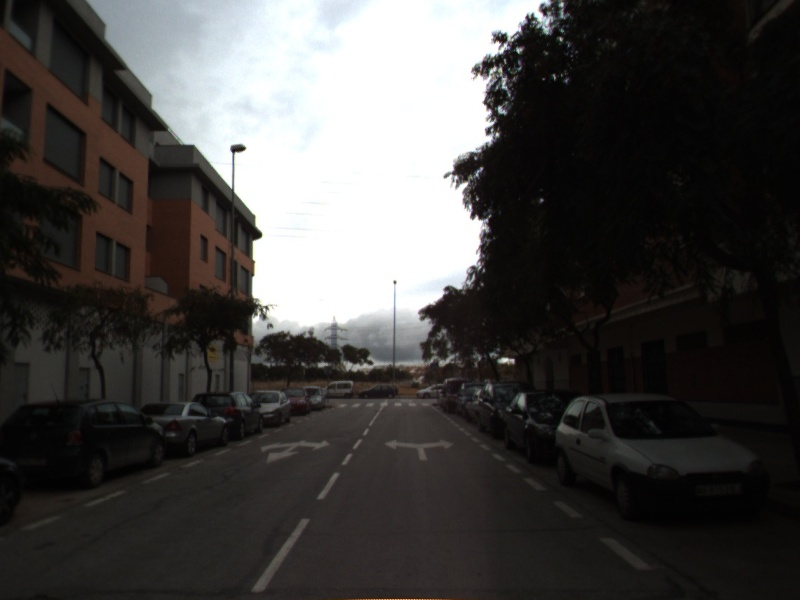LEFT_RIGHT: (382, 437, 456, 462)
